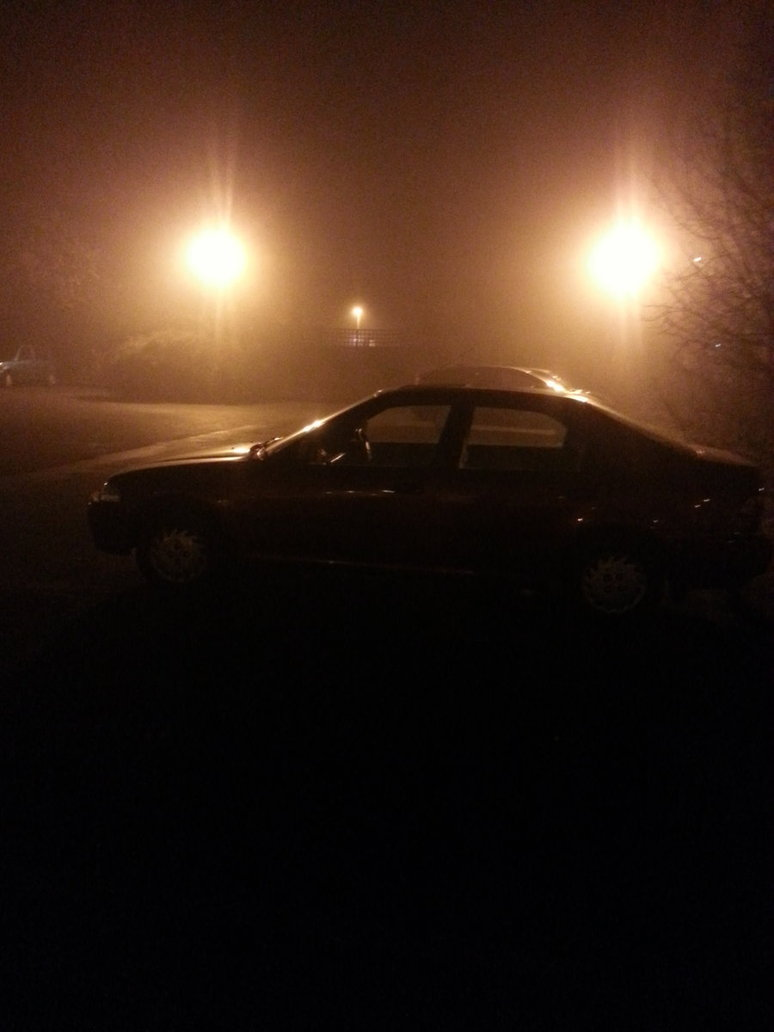car: (79, 377, 773, 641)
